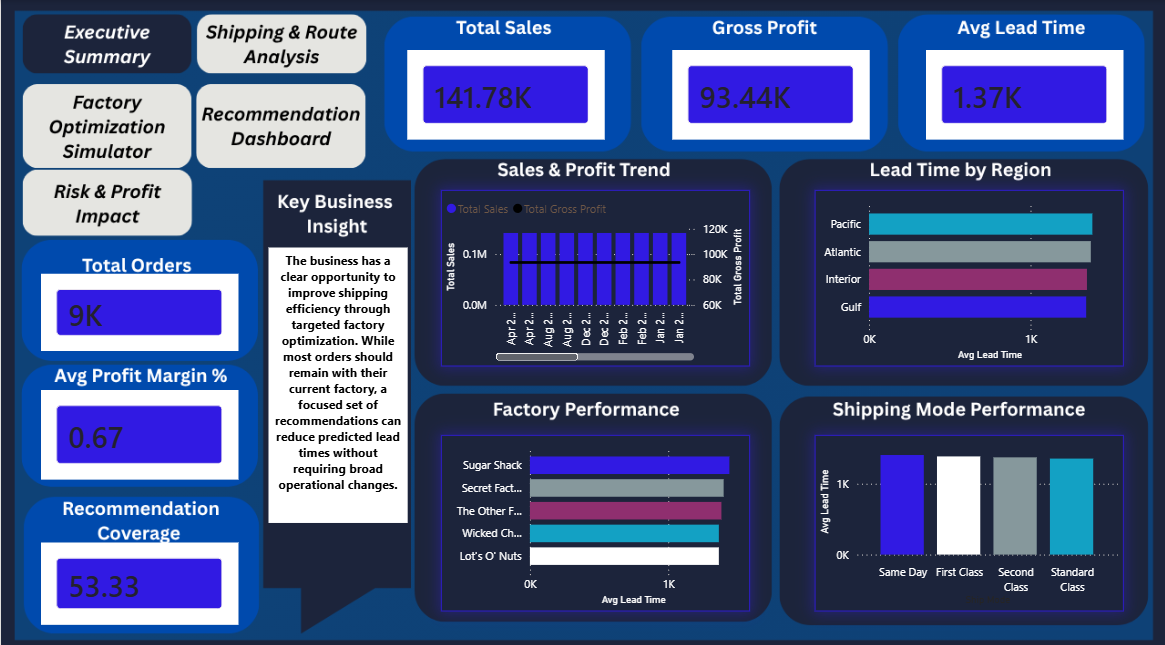

Layout of this report page (visuals, bound fields, positions):
{"tool":"powerbi","page":{"name":"Executive Summary","canvas":[1280,720],"ordinal":1},"visuals":[{"type":"cardVisual","fields":{"Data":["Sum(recommendation_summary.Value)"]},"box":[43.9,595.5,216.8,90.6],"z":0},{"type":"cardVisual","fields":{"Data":["Nassau_Candy_Cleaned (2).Total Sales"]},"box":[446,54.9,216.8,98.8],"z":1000},{"type":"cardVisual","fields":{"Data":["Nassau_Candy_Cleaned (2).Total Orders"]},"box":[43.9,300.5,216.8,85.1],"z":2000},{"type":"cardVisual","fields":{"Data":["Nassau_Candy_Cleaned (2).Avg Profit Margin"]},"box":[43.9,428.1,216.8,98.8],"z":3000},{"type":"cardVisual","fields":{"Data":["Nassau_Candy_Cleaned (2).Avg Lead Time"]},"box":[1015.4,54.9,216.8,98.8],"z":4000},{"type":"cardVisual","fields":{"Data":["Nassau_Candy_Cleaned (2).Total Gross Profit"]},"box":[736.9,54.9,216.8,98.8],"z":5000},{"type":"lineClusteredColumnComboChart","fields":{"Y":["Nassau_Candy_Cleaned (2).Total Sales"],"Y2":["Nassau_Candy_Cleaned (2).Total Gross Profit"],"Category":["Dim_Date.Month Year"]},"box":[483,208.6,338.9,193.5],"z":6000},{"type":"clusteredBarChart","fields":{"Category":["Nassau_Candy_Cleaned (2).Region"],"Y":["Nassau_Candy_Cleaned (2).Avg Lead Time"]},"box":[893.3,208.6,338.9,193.5],"z":7000},{"type":"barChart","fields":{"Category":["Nassau_Candy_Cleaned (2).Factory"],"Y":["Nassau_Candy_Cleaned (2).Avg Lead Time"]},"box":[483,477.5,338.9,193.5],"z":8000},{"type":"clusteredColumnChart","fields":{"Category":["Nassau_Candy_Cleaned (2).Ship Mode"],"Y":["Nassau_Candy_Cleaned (2).Avg Lead Time"]},"box":[893.3,477.5,338.9,193.5],"z":9000},{"type":"textbox","box":[294,271.5,152.6,302],"z":10000},{"type":"actionButton","box":[210.4,14.5,192.8,65.9],"z":11000},{"type":"actionButton","box":[17.7,88.4,192.8,94.8],"z":12000},{"type":"actionButton","box":[210.4,88.4,192.8,94.8],"z":13000},{"type":"actionButton","box":[30.5,183.1,179.9,73.9],"z":14000}]}

Visuals, with their boxes in screenshot pixels (x1, y1, x2, y2), scaled from the page's 1280x720 canvas onto the 1165x645 screenshot:
cardVisual - Sum(recommendation_summary.Value): 40 533 237 615
cardVisual - Nassau_Candy_Cleaned (2).Total Sales: 406 49 603 138
cardVisual - Nassau_Candy_Cleaned (2).Total Orders: 40 269 237 345
cardVisual - Nassau_Candy_Cleaned (2).Avg Profit Margin: 40 384 237 472
cardVisual - Nassau_Candy_Cleaned (2).Avg Lead Time: 924 49 1121 138
cardVisual - Nassau_Candy_Cleaned (2).Total Gross Profit: 671 49 868 138
lineClusteredColumnComboChart - Nassau_Candy_Cleaned (2).Total Sales x Nassau_Candy_Cleaned (2).Total Gross Profit: 440 187 748 360
clusteredBarChart - Nassau_Candy_Cleaned (2).Region x Nassau_Candy_Cleaned (2).Avg Lead Time: 813 187 1121 360
barChart - Nassau_Candy_Cleaned (2).Factory x Nassau_Candy_Cleaned (2).Avg Lead Time: 440 428 748 601
clusteredColumnChart - Nassau_Candy_Cleaned (2).Ship Mode x Nassau_Candy_Cleaned (2).Avg Lead Time: 813 428 1121 601
textbox: 268 243 406 514
actionButton: 191 13 367 72
actionButton: 16 79 192 164
actionButton: 191 79 367 164
actionButton: 28 164 191 230
